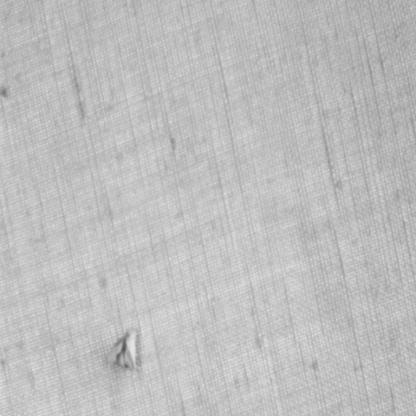objects: (107, 325, 139, 375)
